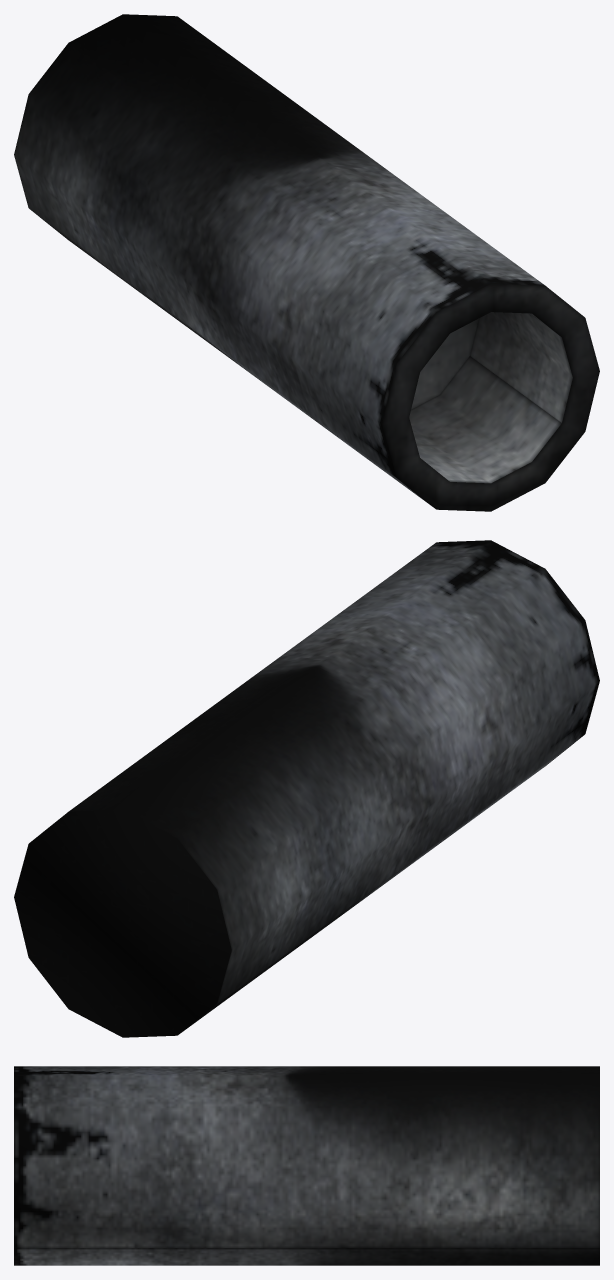
File: Boss3Cannon.fbx
The picture shows the model from 3 angles, top to bottom: view 1: azimuth 30°, elevation 25°; view 2: azimuth 150°, elevation 25°; view 3: azimuth 270°, elevation 25°; orthographic projection. The views are drawn at different scales.
Visible parts, largest first — view 1: Cannon; view 2: Cannon; view 3: Cannon.
Boxes of the visible parts, <box> form: Cannon: <box>14,14,599,511</box>; Cannon: <box>14,540,599,1037</box>; Cannon: <box>14,1066,599,1265</box>.
Size of the model in its own units: 0.41 by 0.41 by 1.2.
1 material, 1 textured.
